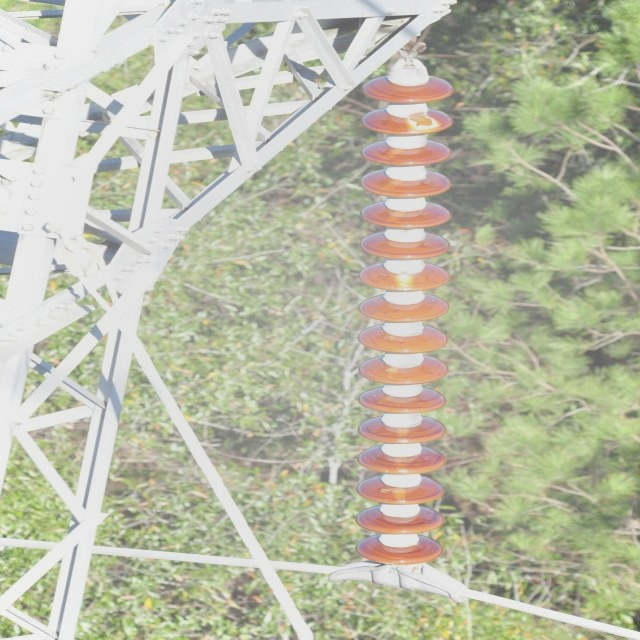insulator: (356, 76, 462, 565)
